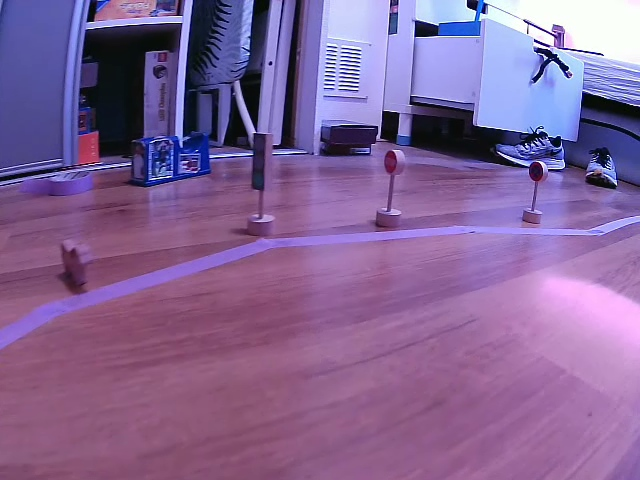groenlicht: (252, 131, 269, 191)
stopbord: (383, 152, 402, 176)
